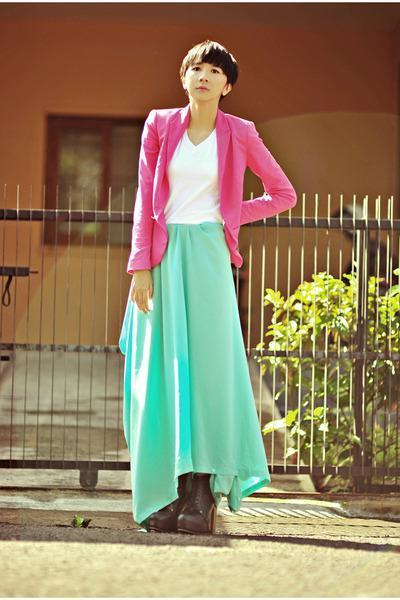jacket: (126, 107, 301, 275)
skirt: (117, 224, 257, 517)
vest: (154, 123, 225, 228)
